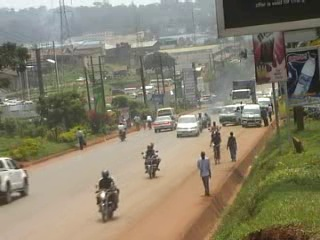Car: (174, 111, 201, 139), (149, 113, 177, 135), (196, 111, 211, 128), (210, 100, 226, 114)
Motorcycle: (92, 168, 121, 223), (140, 140, 164, 180), (205, 120, 223, 148), (115, 120, 129, 143), (197, 112, 206, 130)
